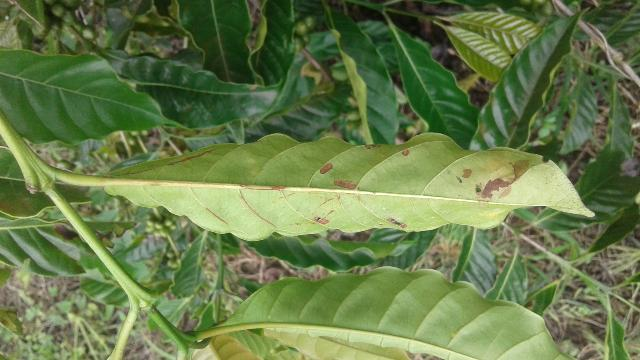red_spider_mite: (101, 131, 596, 238)
